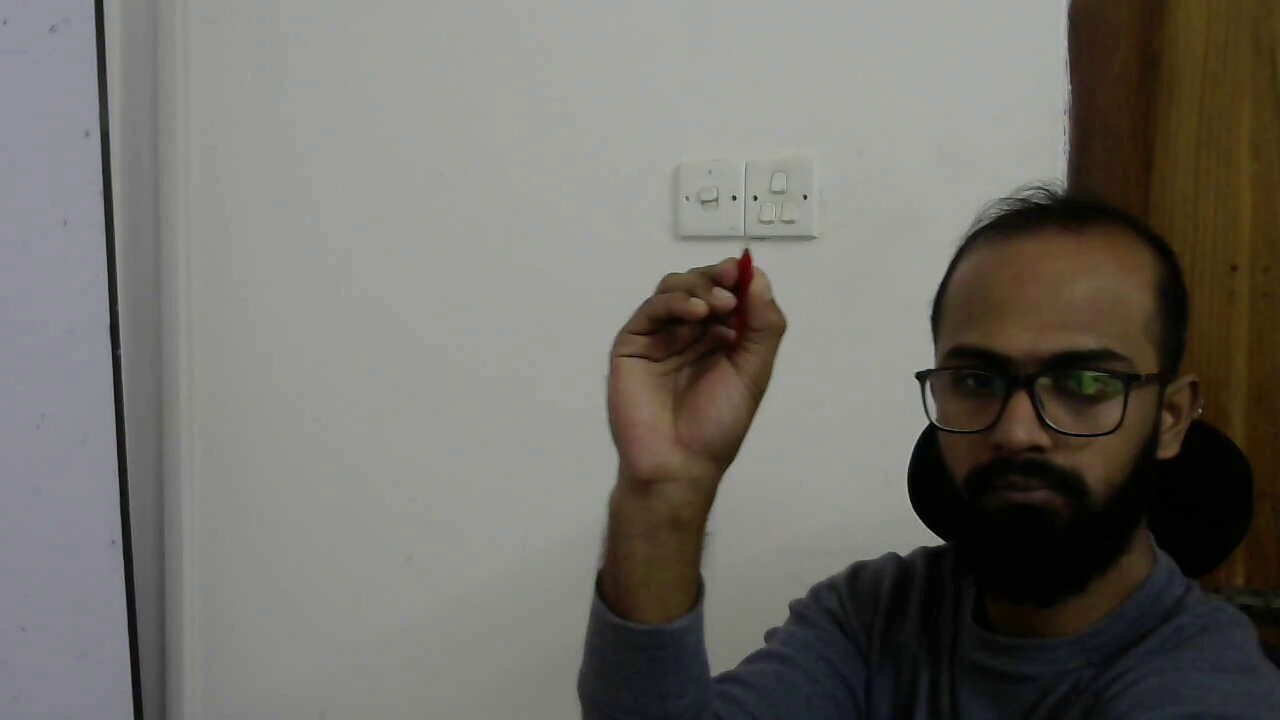pointer: (602, 239, 794, 387)
